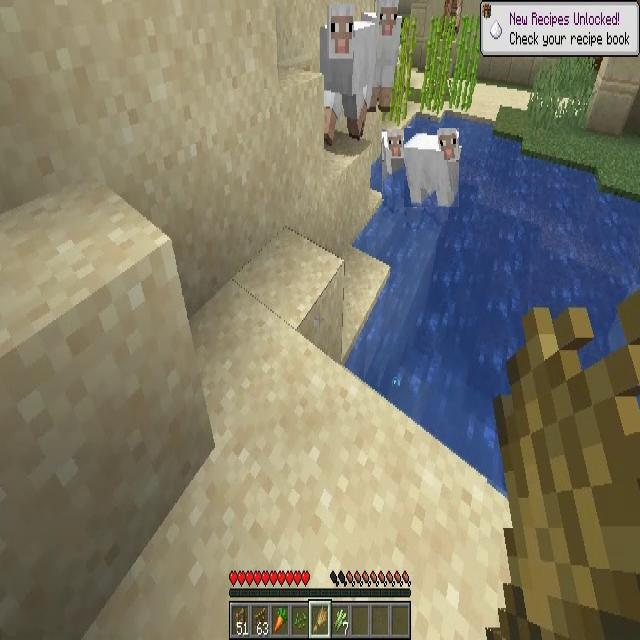sheep: (319, 10, 373, 136), (404, 128, 459, 207), (366, 1, 402, 104), (382, 129, 406, 199)
